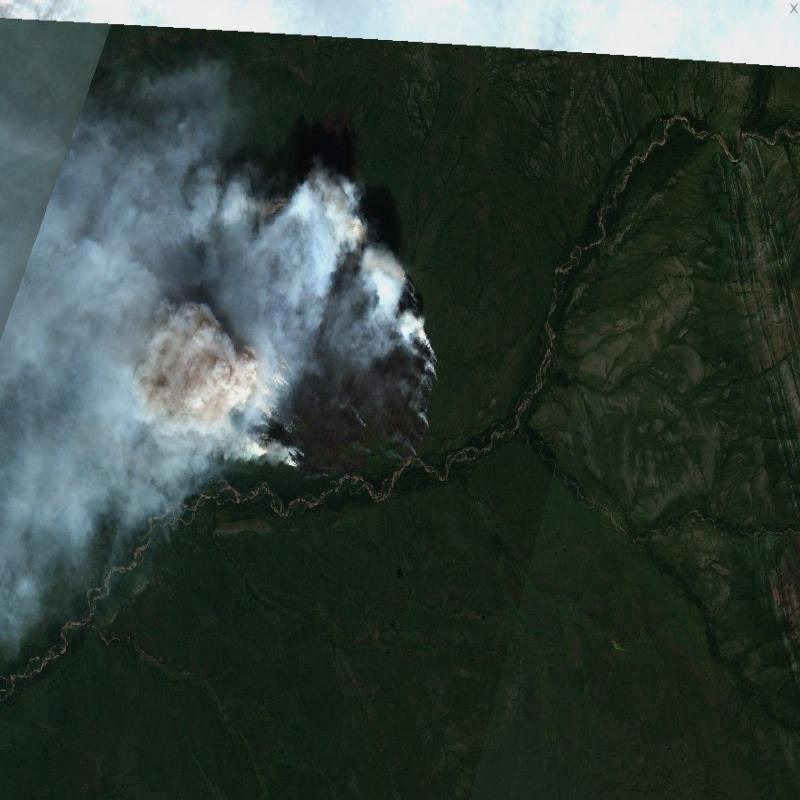fire: (198, 350, 322, 485), (376, 236, 442, 437), (266, 187, 322, 266)
